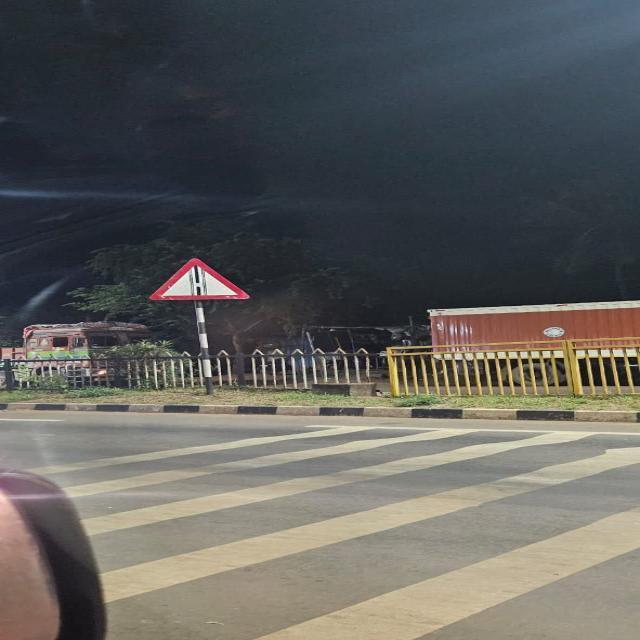gap in median: (145, 257, 255, 303)
